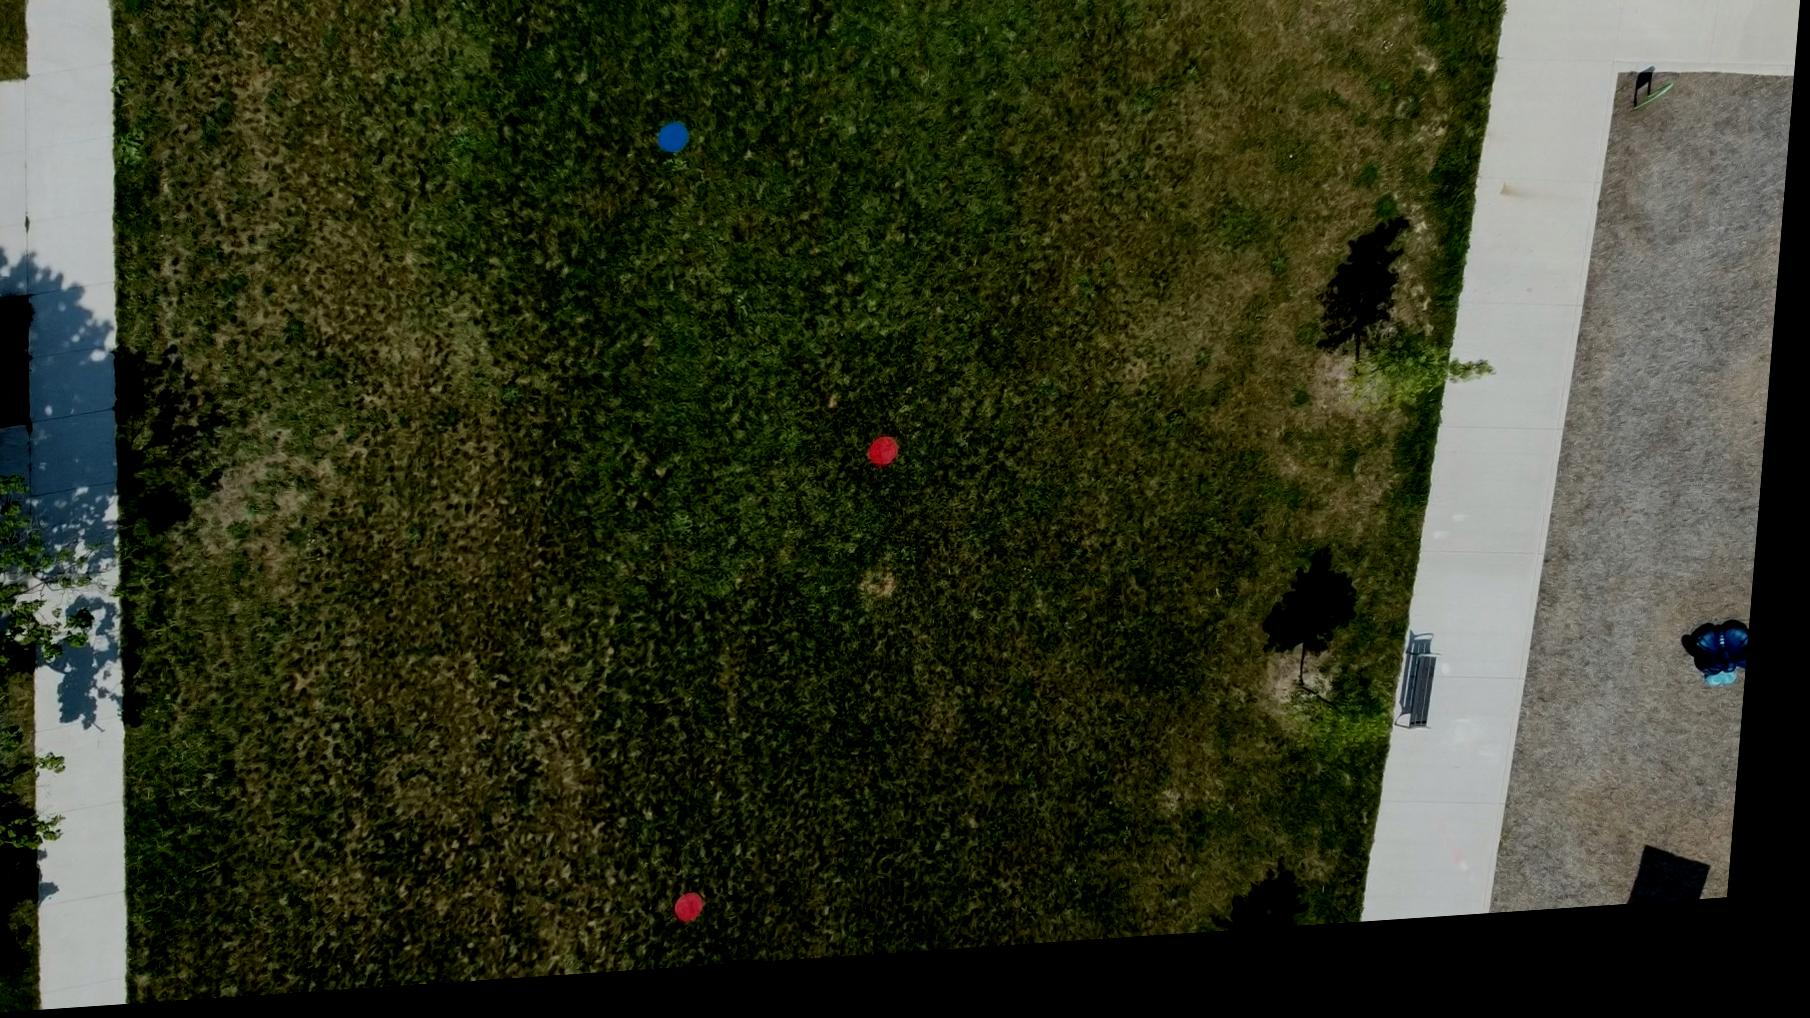Blue: (656, 129, 695, 165)
Red: (874, 446, 911, 484), (686, 902, 724, 935)
